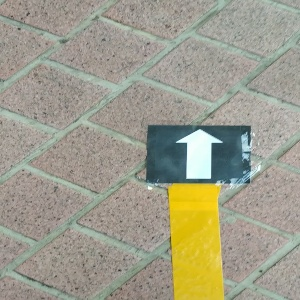straight: (147, 123, 249, 183)
